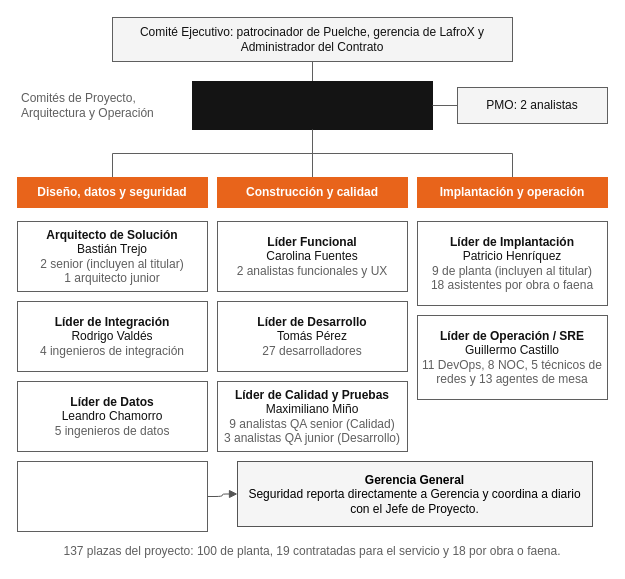
Image size: 625x579. Some labels were removed from this diagram. Here are the shapes that lost their labels. From the top down, the box of each, then its label:
(192, 80, 432, 130): Jefe de Proyecto Alex Aravena
(16, 460, 208, 532): Encargado de Seguridad Álvaro Catalán 4 especialistas y 6 analistas SOC
